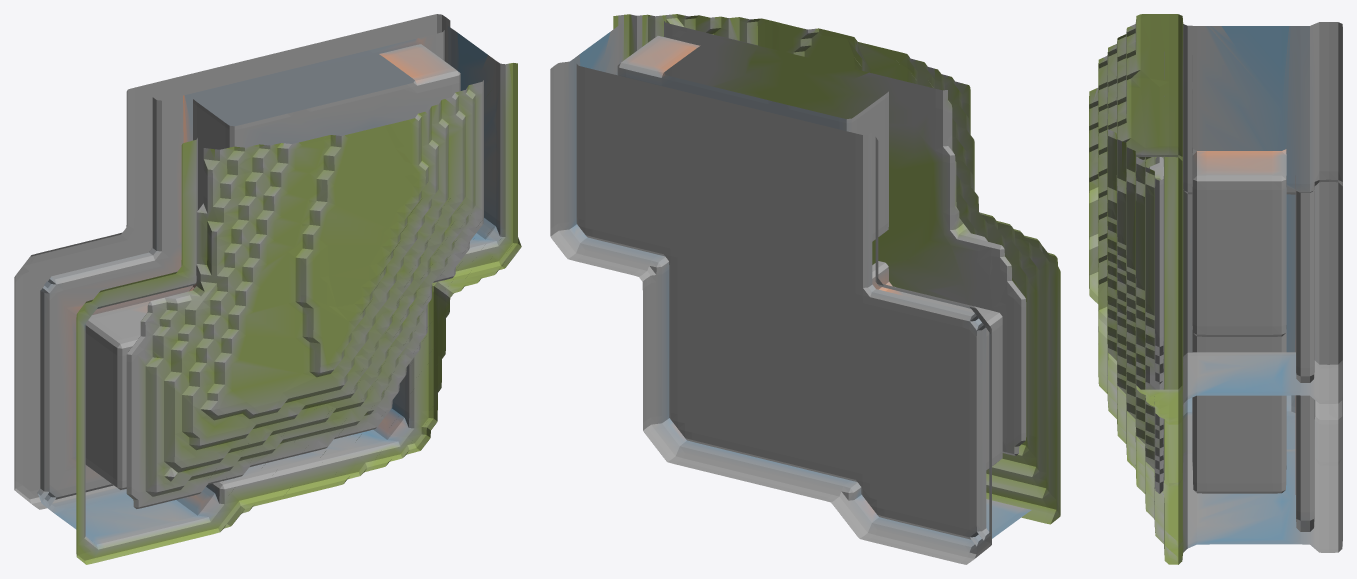
Rendered from 04203_original_cutaway.glb.
The picture shows the model from 3 angles, left to right: view 1: azimuth 30°, elevation 25°; view 2: azimuth 150°, elevation 25°; view 3: azimuth 270°, elevation 25°; orthographic projection. The views are drawn at different scales.
Visible parts, largest first — view 1: world; view 2: world; view 3: world.
Boxes of the visible parts, bbox=[...] form: world: bbox=[14, 14, 521, 564]; world: bbox=[550, 14, 1060, 564]; world: bbox=[1089, 14, 1342, 564].
Bounding box in the file's own units: 62.87 × 53.97 × 26.99.
